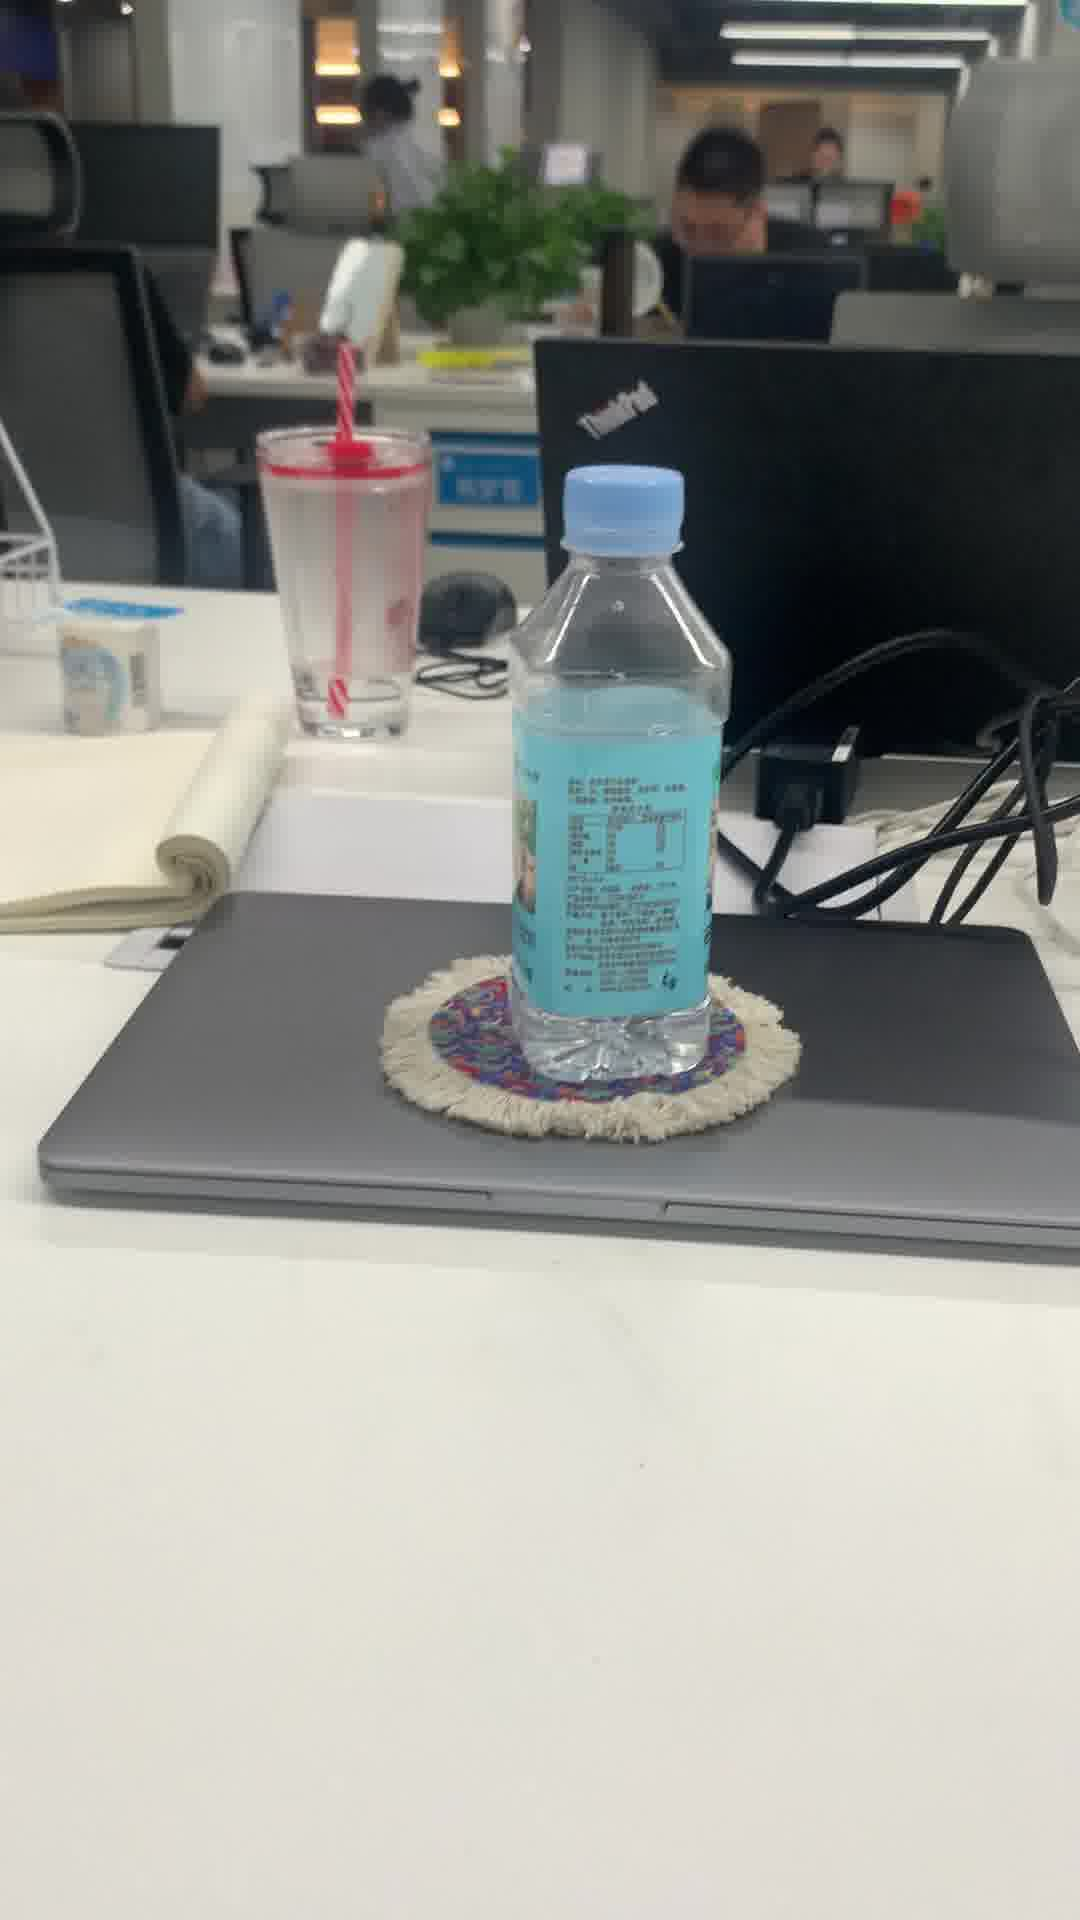水瓶: (498, 458, 731, 1095)
